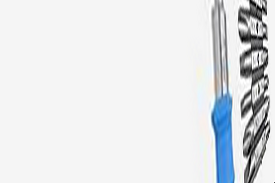screwdriver: (201, 1, 247, 183)
